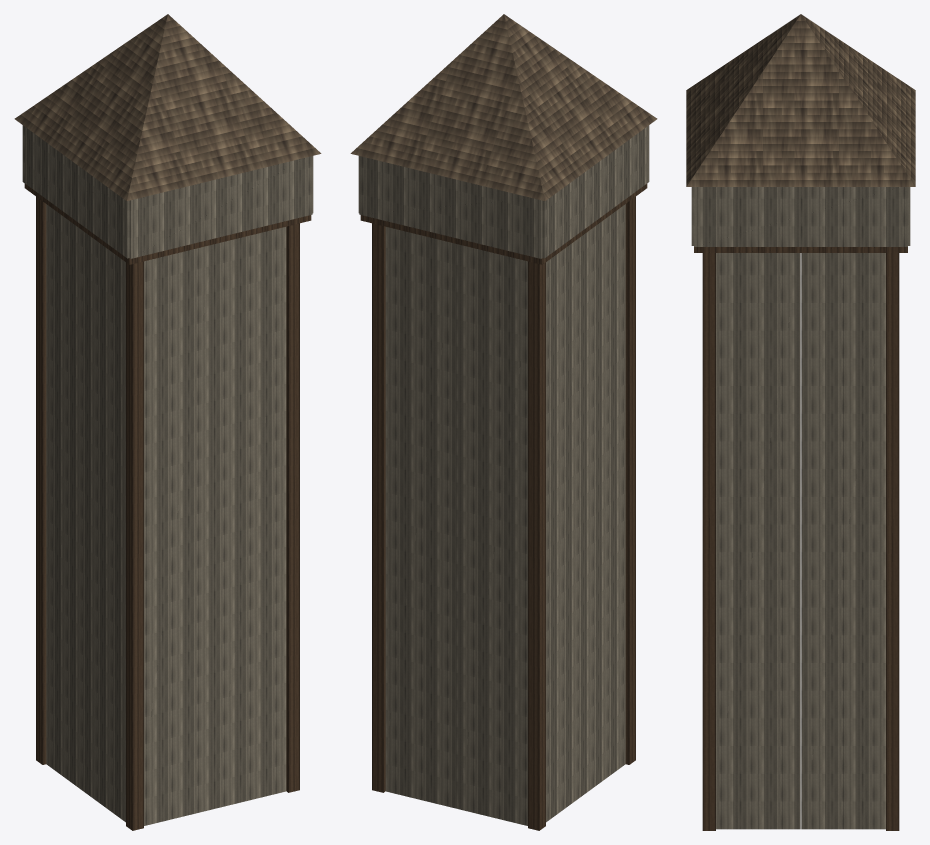
The model's file is Tower_Rampart_Wood_1_LOD2.gltf.
3 renders of one model, left to right at view 1: azimuth 30°, elevation 25°; view 2: azimuth 150°, elevation 25°; view 3: azimuth 270°, elevation 25°, orthographic.
Visible parts, largest first — view 1: Tower_Rampart_Wood_1_LOD2; view 2: Tower_Rampart_Wood_1_LOD2; view 3: Tower_Rampart_Wood_1_LOD2.
Part boxes in pixels (bbox=[...]): Tower_Rampart_Wood_1_LOD2: bbox=[14, 14, 321, 830]; Tower_Rampart_Wood_1_LOD2: bbox=[350, 14, 657, 830]; Tower_Rampart_Wood_1_LOD2: bbox=[686, 14, 915, 830].
Bounding box in the file's own units: 7.5 × 28 × 7.5.
Materials: 3 (3 with a texture image).
